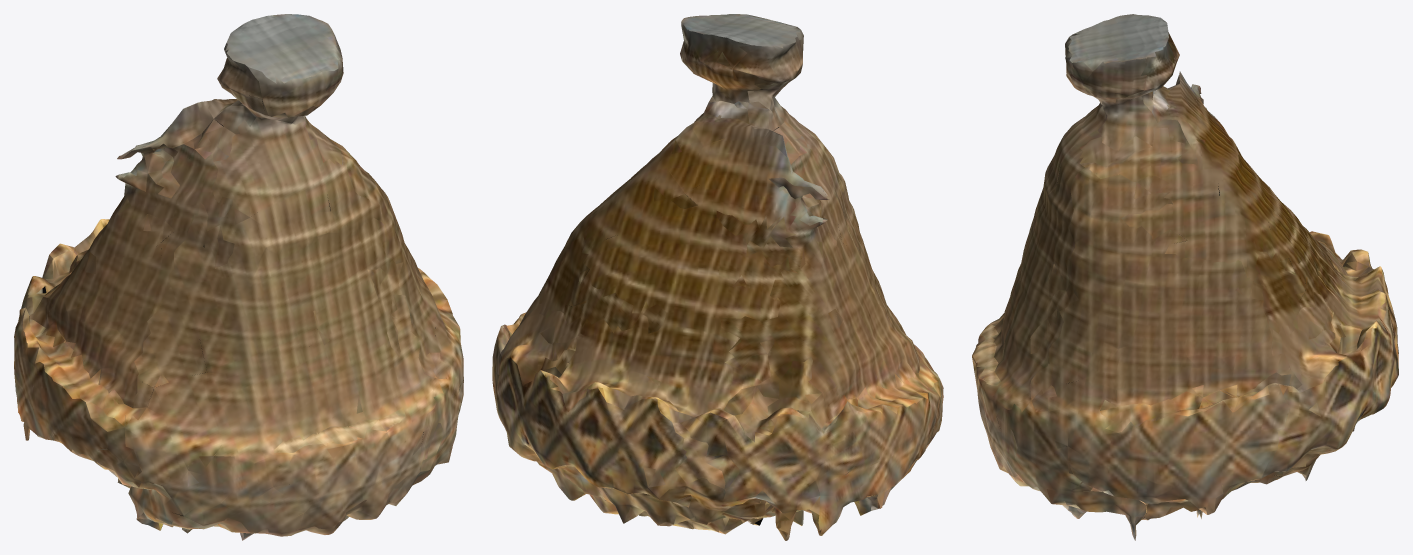
3 views of the same model, side by side, from view 1: azimuth 30°, elevation 25°; view 2: azimuth 150°, elevation 25°; view 3: azimuth 270°, elevation 25° (orthographic). The views are drawn at different scales.
Parts seen in each view (by area): view 1: world; view 2: world; view 3: world.
Boxes of the visible parts, x1=… form: world: x1=14, y1=14, x2=463, y2=540; world: x1=492, y1=14, x2=943, y2=540; world: x1=972, y1=14, x2=1398, y2=540.
Bounding box in the file's own units: 0.5451 × 0.6469 × 0.5378.
Materials: 1 (1 with a texture image).
